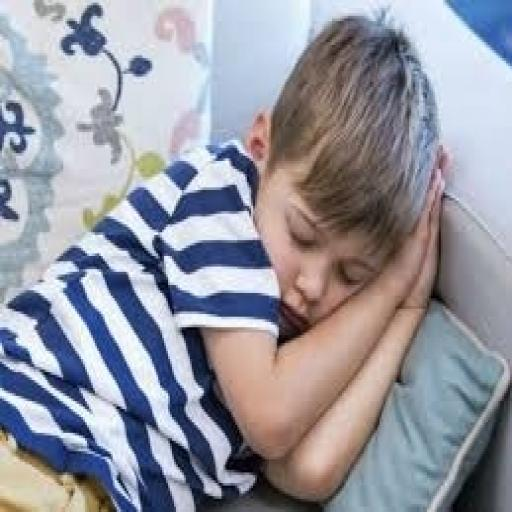sleeping: (0, 8, 453, 509)
